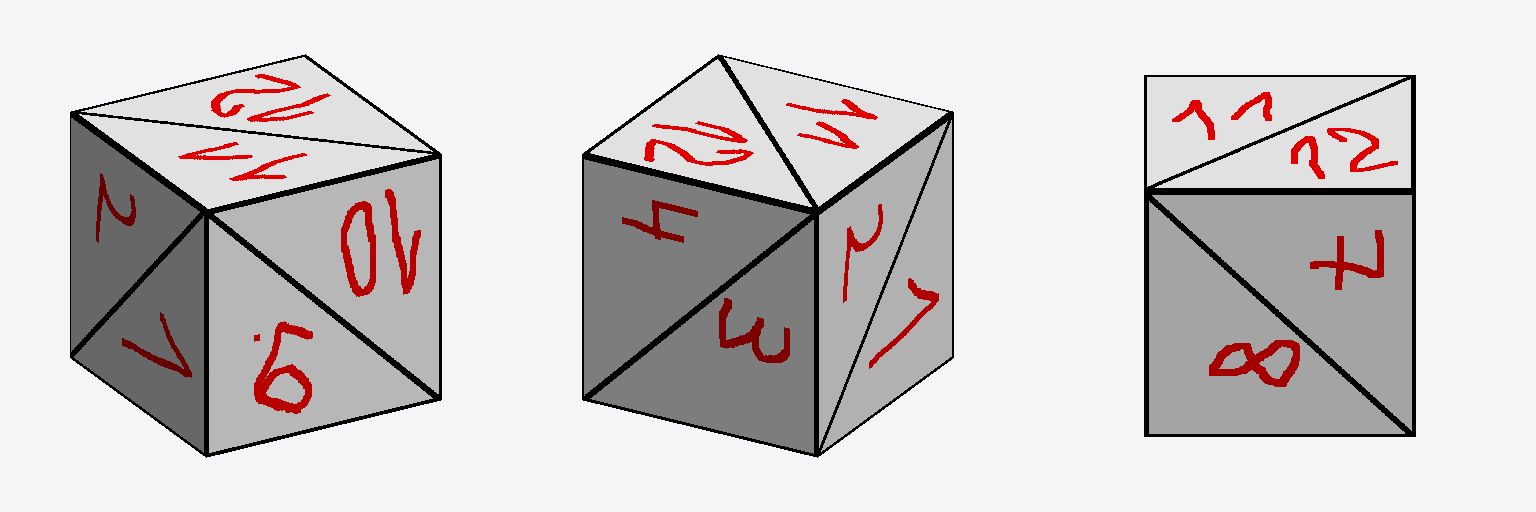
3 views of the same model, side by side, from view 1: azimuth 30°, elevation 25°; view 2: azimuth 150°, elevation 25°; view 3: azimuth 270°, elevation 25° (orthographic).
Visible parts, largest first — view 1: Cube; view 2: Cube; view 3: Cube.
Boxes of the visible parts, box(x1,y1,x2,y2) form: Cube: box(70, 54, 441, 457); Cube: box(582, 54, 953, 457); Cube: box(1144, 75, 1415, 436).
Bounding box in the file's own units: 2 × 2 × 2.
Materials: 1 (1 with a texture image).